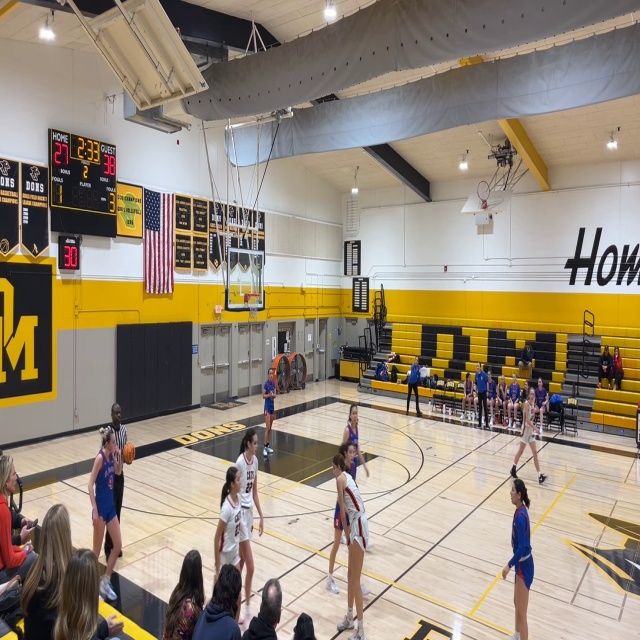Basketball: (122, 443, 135, 464)
